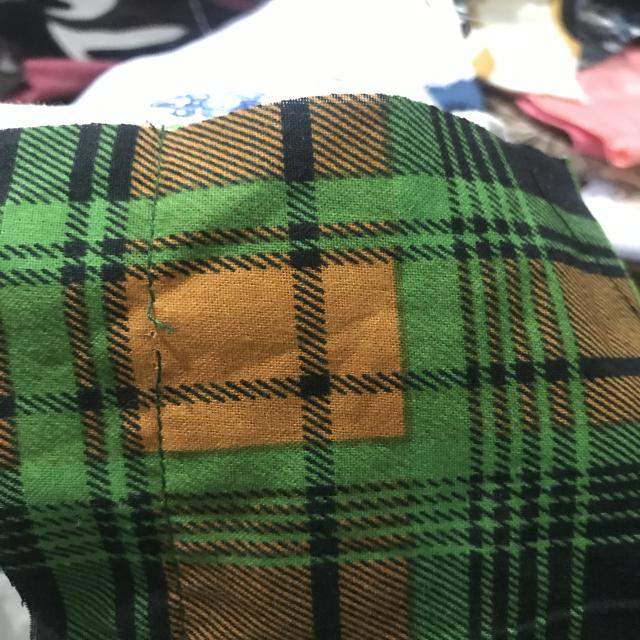broken: (136, 290, 189, 374)
good: (152, 418, 188, 490)
